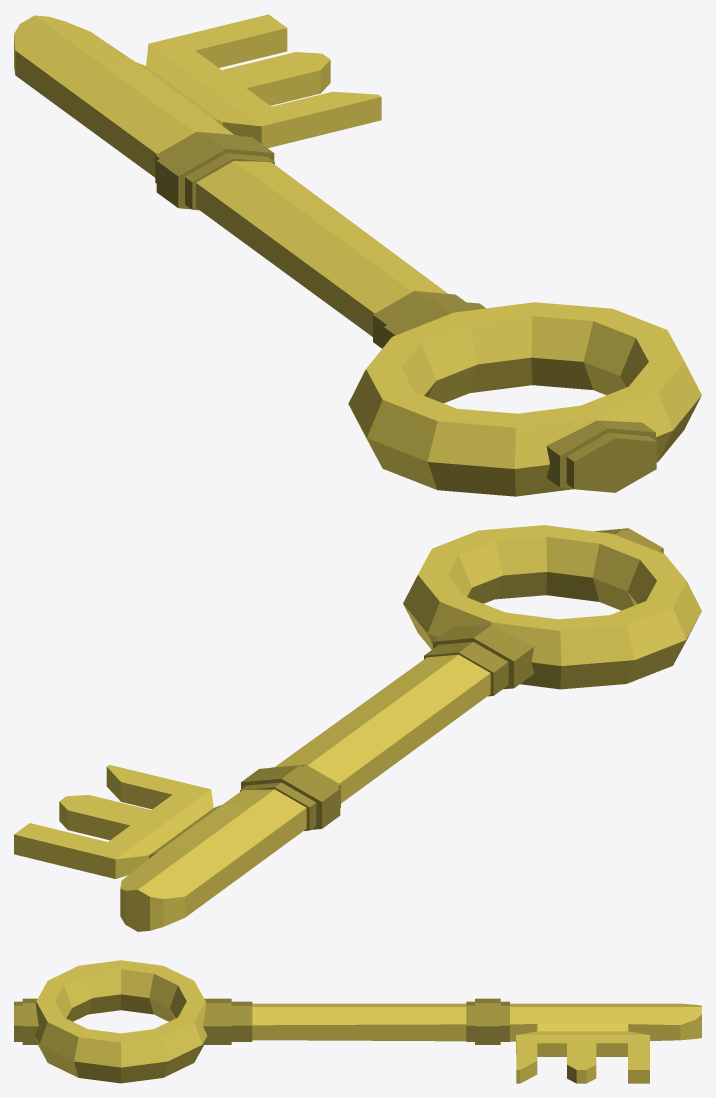
File: key.glb
3 views of the same model, one above another, from view 1: azimuth 30°, elevation 25°; view 2: azimuth 150°, elevation 25°; view 3: azimuth 270°, elevation 25° (orthographic). The views are drawn at different scales.
Parts seen in each view (by area): view 1: Cylinder, Torus, Cylinder.004, Cylinder.002, Cylinder.003, Cylinder.001, Cylinder.006, Cylinder.005; view 2: Cylinder, Torus, Cylinder.001, Cylinder.002, Cylinder.005, Cylinder.006; view 3: Cylinder, Torus, Cylinder.001, Cylinder.002, Cylinder.005, Cylinder.006, Cylinder.003, Cylinder.004.
Boxes of the visible parts, x1,y1,x2,y2 form: Cylinder: (14, 14, 447, 336); Torus: (348, 302, 701, 496); Cylinder.004: (566, 432, 656, 492); Cylinder.002: (156, 133, 274, 209); Cylinder.003: (546, 420, 655, 488); Cylinder.001: (384, 299, 485, 346); Cylinder.006: (155, 131, 274, 210); Cylinder.005: (373, 291, 465, 348); Cylinder: (14, 654, 490, 931); Torus: (403, 525, 701, 689); Cylinder.001: (433, 625, 534, 689); Cylinder.002: (241, 765, 340, 829); Cylinder.005: (424, 642, 508, 696); Cylinder.006: (240, 764, 340, 830); Cylinder: (252, 1003, 701, 1083); Torus: (34, 960, 207, 1083); Cylinder.001: (203, 998, 231, 1044); Cylinder.002: (475, 998, 500, 1044); Cylinder.005: (231, 1001, 252, 1041); Cylinder.006: (466, 1001, 509, 1041); Cylinder.003: (22, 998, 38, 1044); Cylinder.004: (14, 1001, 22, 1041).
Size of the model in its own units: 1.56 by 0.2956 by 4.51.
